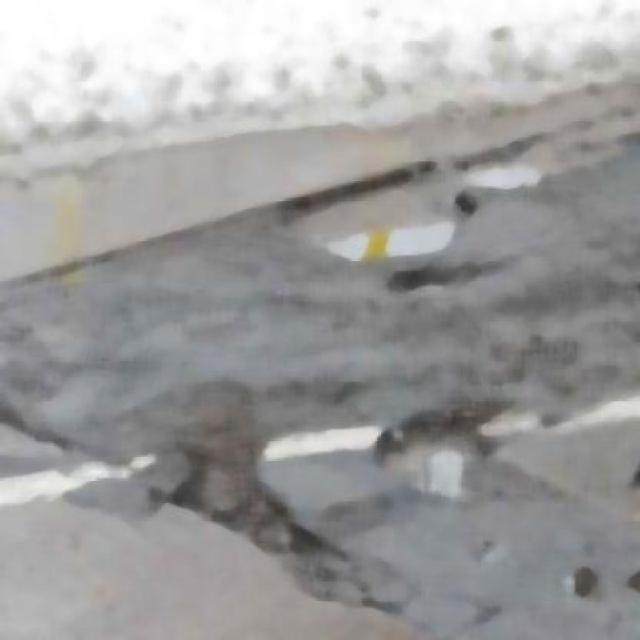Pothole: (392, 416, 482, 501), (333, 206, 458, 256), (459, 143, 552, 197)
